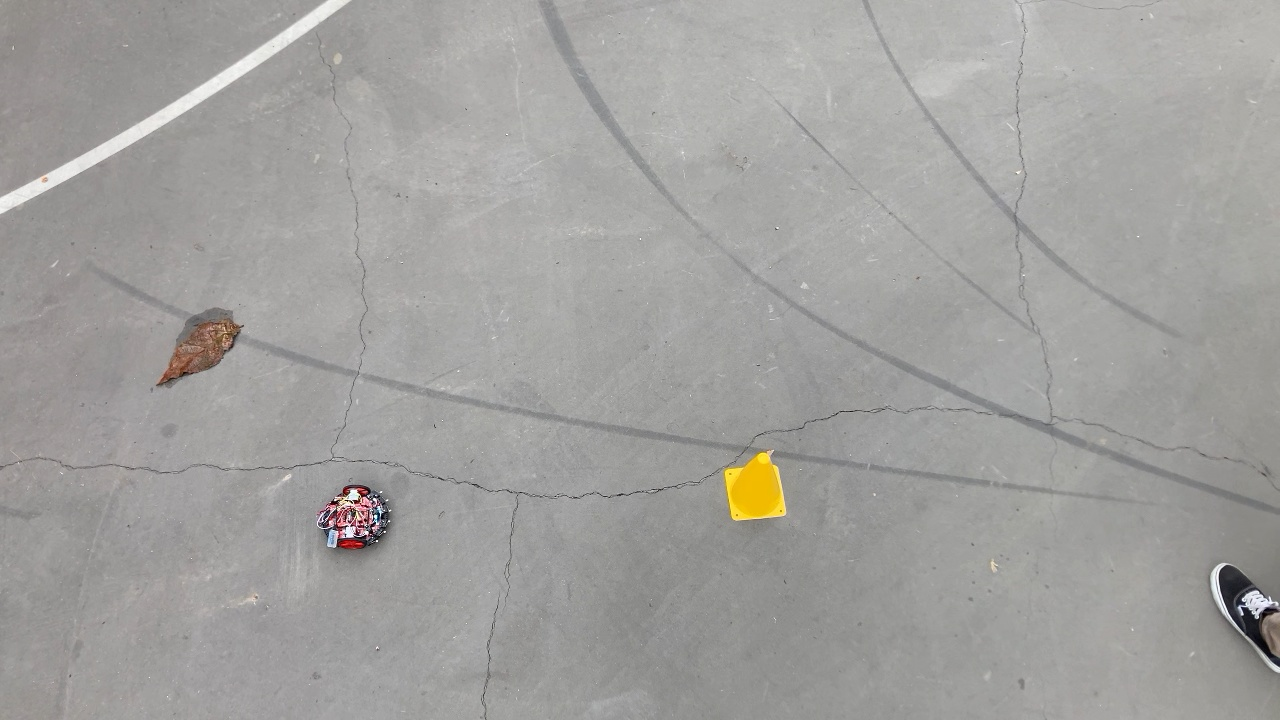robot: (314, 481, 394, 557)
yellow_cone: (719, 452, 790, 530)
